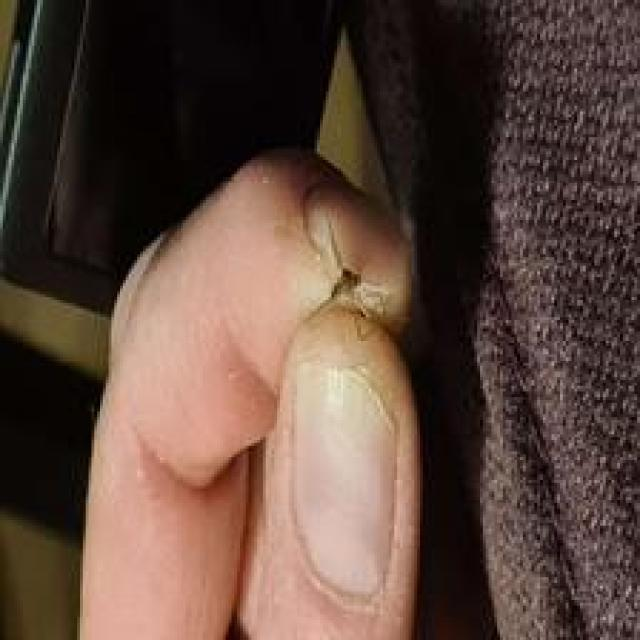Culex: (228, 203, 426, 640)
